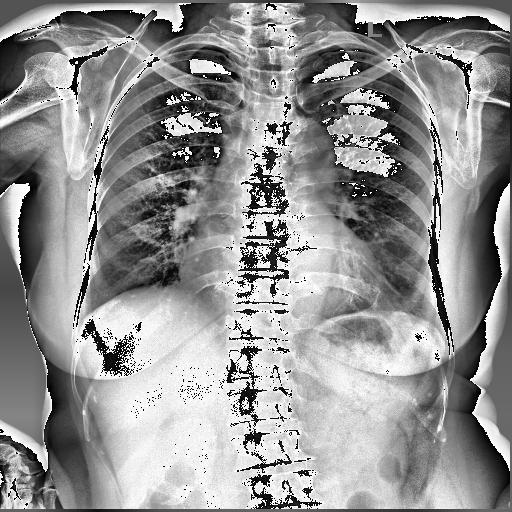0- Aortic enlargement: (273, 116, 336, 177), (283, 120, 338, 176), (285, 118, 335, 168)
3- Cardiomegaly: (175, 243, 386, 308), (177, 250, 380, 308), (175, 256, 391, 303)
